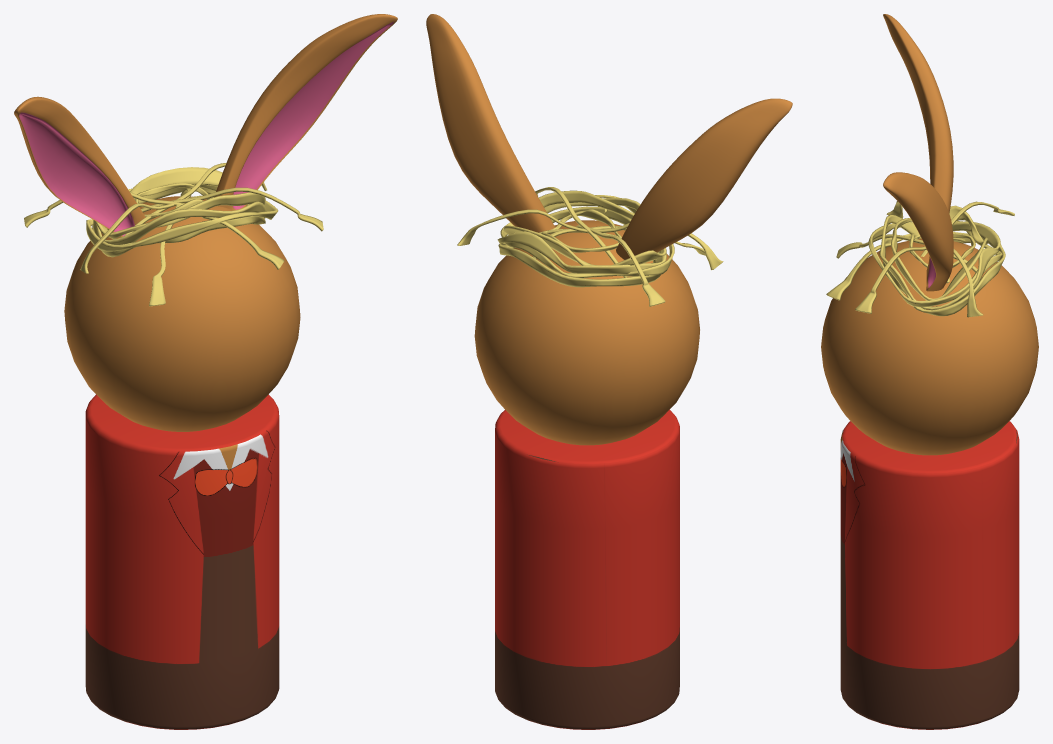
The model's file is march.glb.
The picture shows the model from 3 angles, left to right: view 1: azimuth 30°, elevation 25°; view 2: azimuth 150°, elevation 25°; view 3: azimuth 270°, elevation 25°; orthographic projection. The views are drawn at different scales.
Parts seen in each view (by area): view 1: Cylinder, Sphere, Cube, Circle, Circle.001; view 2: Cylinder, Sphere, Cube, Circle, Circle.001; view 3: Cylinder, Sphere, Cube, Circle, Circle.001.
Boxes of the visible parts, bbox=[...] form: Cylinder: bbox=[85, 394, 279, 729]; Sphere: bbox=[64, 196, 300, 431]; Cube: bbox=[14, 14, 397, 236]; Circle: bbox=[86, 167, 278, 257]; Circle.001: bbox=[24, 163, 323, 306]; Cylinder: bbox=[495, 409, 679, 729]; Sphere: bbox=[474, 220, 699, 445]; Cube: bbox=[426, 14, 792, 259]; Circle: bbox=[497, 190, 674, 287]; Circle.001: bbox=[457, 187, 723, 306]; Cylinder: bbox=[840, 421, 1019, 729]; Sphere: bbox=[821, 238, 1038, 455]; Cube: bbox=[883, 14, 953, 291]; Circle: bbox=[868, 205, 1005, 316]; Circle.001: bbox=[826, 201, 1014, 317].
Bounding box in the file's own units: 4.53 × 7.37 × 2.44.
4 materials, 1 textured.
